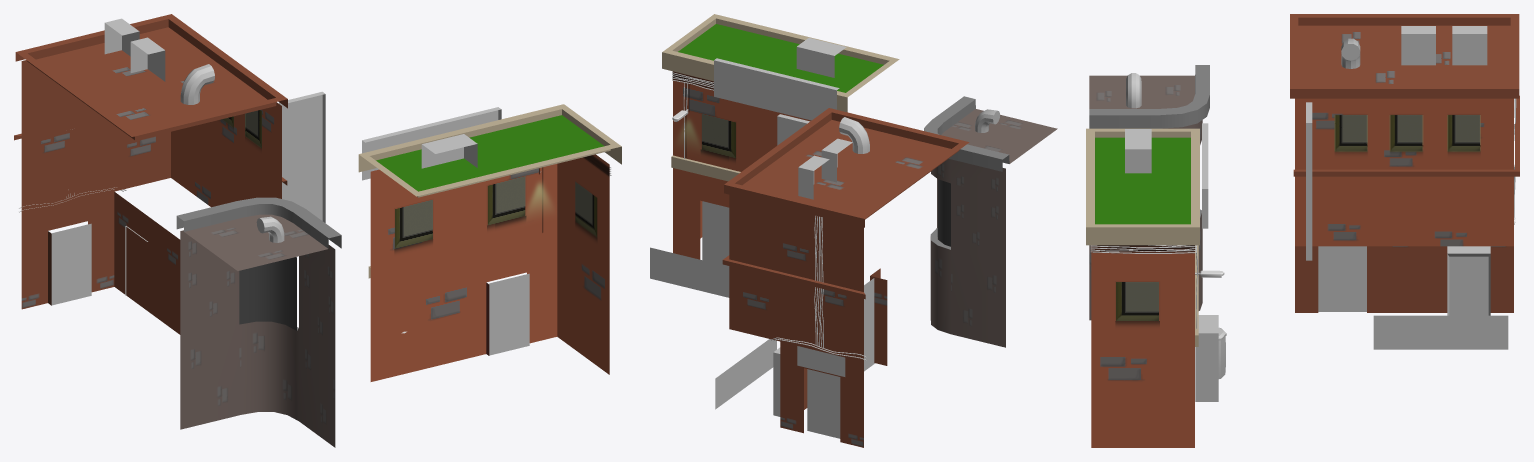
File: building.fbx
3 views of the same model, side by side, from view 1: azimuth 30°, elevation 25°; view 2: azimuth 150°, elevation 25°; view 3: azimuth 270°, elevation 25° (orthographic). The views are drawn at different scales.
Visible parts, largest first — view 1: Object003, Plane002; view 2: Object003, Plane002, Object007, Cylinder002, Object004; view 3: Object003, Plane002, Object007, Object004.
Boxes of the visible parts, x1,y1,x2,y2 form: Object003: (14, 14, 621, 447); Plane002: (51, 18, 529, 355); Object003: (662, 14, 1057, 447); Plane002: (702, 38, 999, 438); Object007: (650, 247, 874, 409); Cylinder002: (771, 215, 866, 360); Object004: (672, 71, 713, 159); Object003: (1086, 14, 1519, 447); Plane002: (1125, 26, 1490, 401); Object007: (1318, 246, 1508, 349); Object004: (1090, 245, 1197, 328).
Size of the model in its own units: 208 by 146 by 204.
